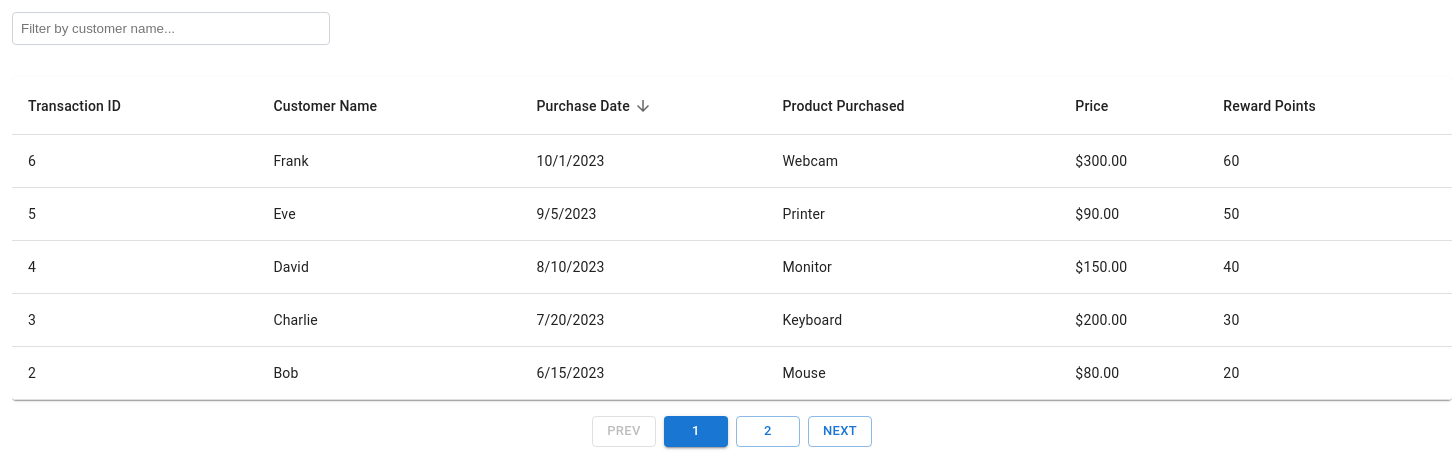
TransactionsTable › sorts by Price ascending when clicking Price header
What coordinates should you click on to do the following:
click the button "Price"
I would click on:
 (1092, 106)
Its box is [1075,98,1108,114].
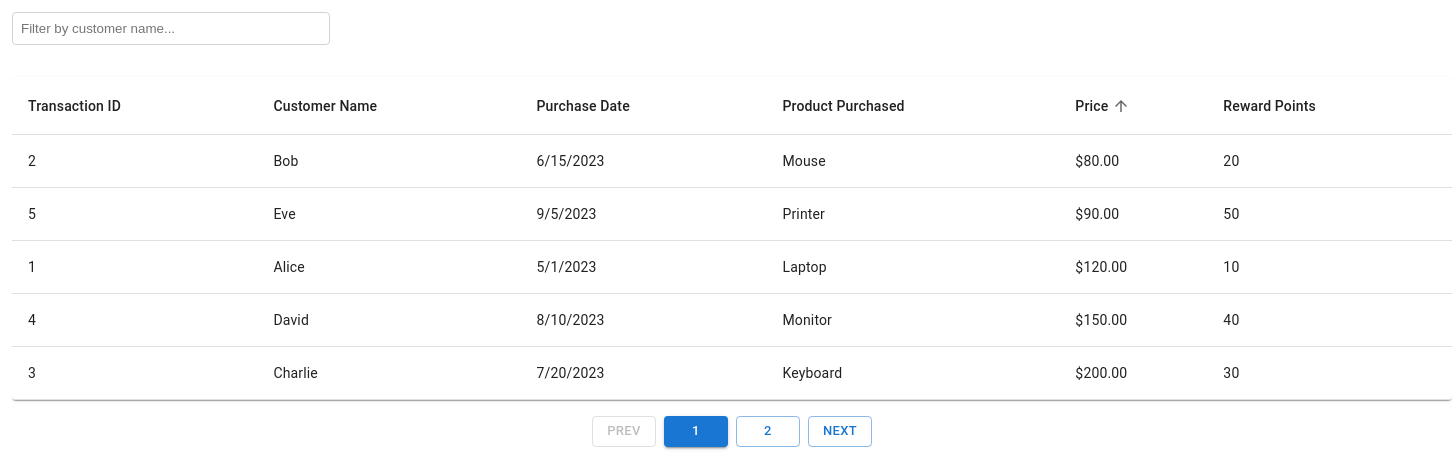
Check: the row "2 Bob 6/15/2023 Mouse $80.00 20" is shown, box [12,135,1451,188]
Check: the text "Frank" is gone
